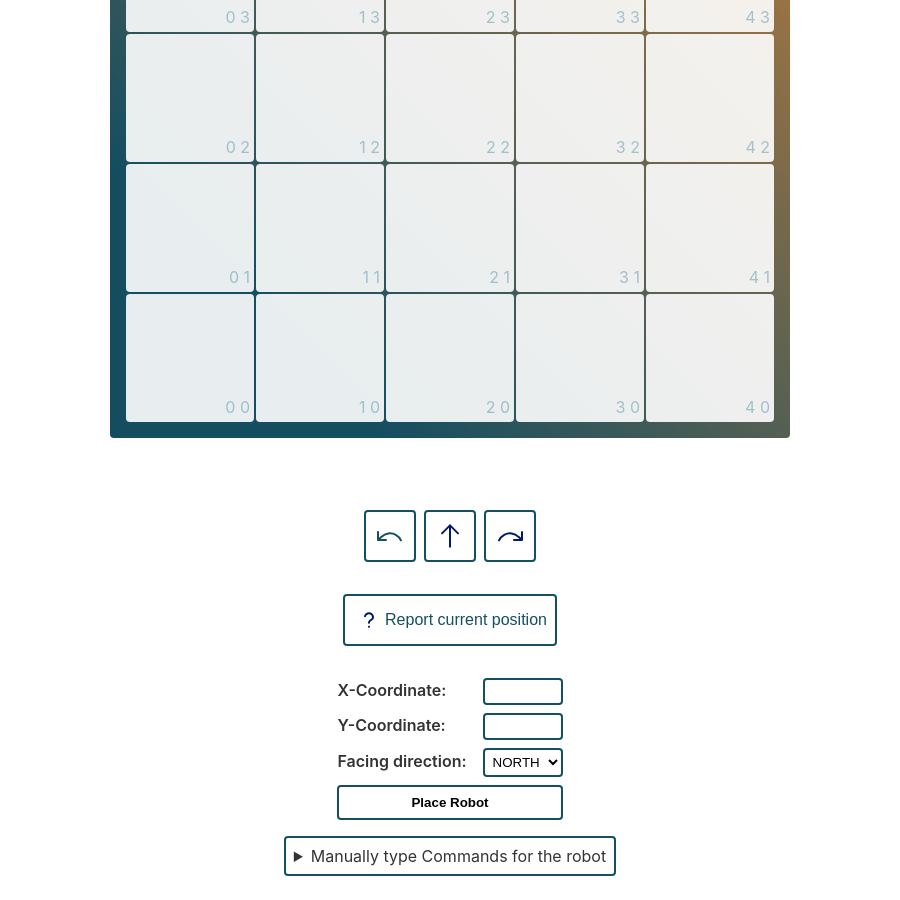
Test: Index page e2e tests › using controls › placed › rotates the robot in left direction
This screenshot has width=900, height=900.
(page scrolled)
Type "0" into the number field with test id "robotplaceform-x" at (523, 692), box x1=483 y1=678 x2=563 y2=705
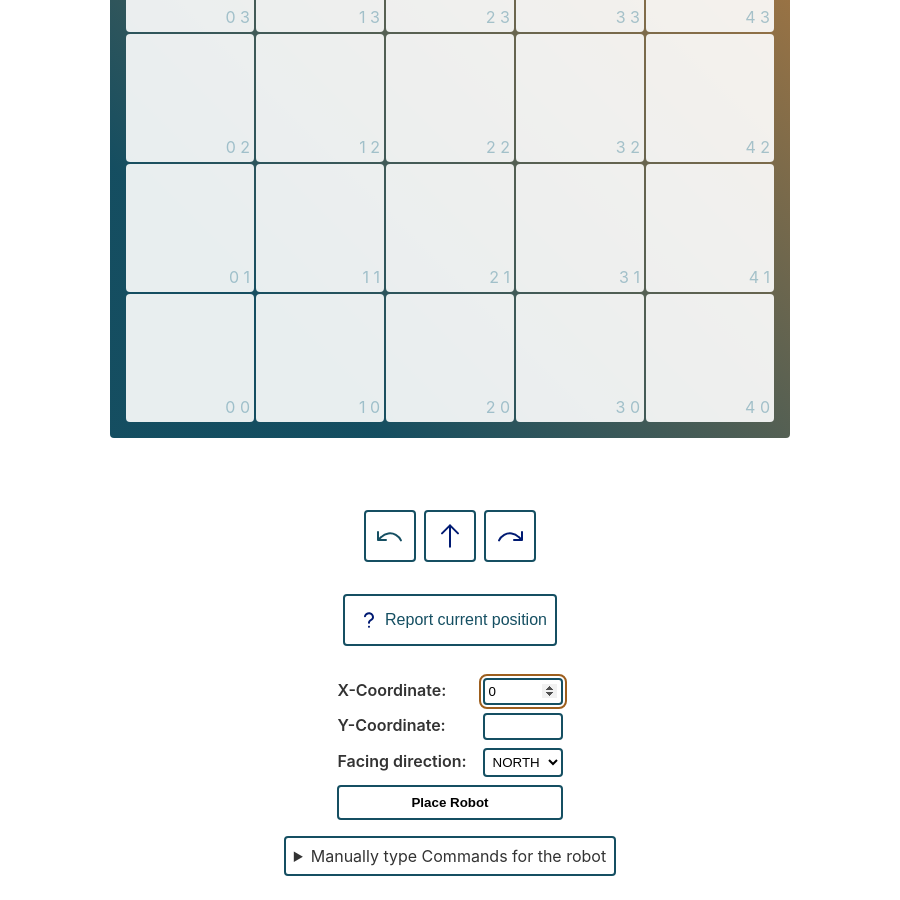
Type "1" into the number field with test id "robotplaceform-y" at (523, 727), box x1=483 y1=713 x2=563 y2=740
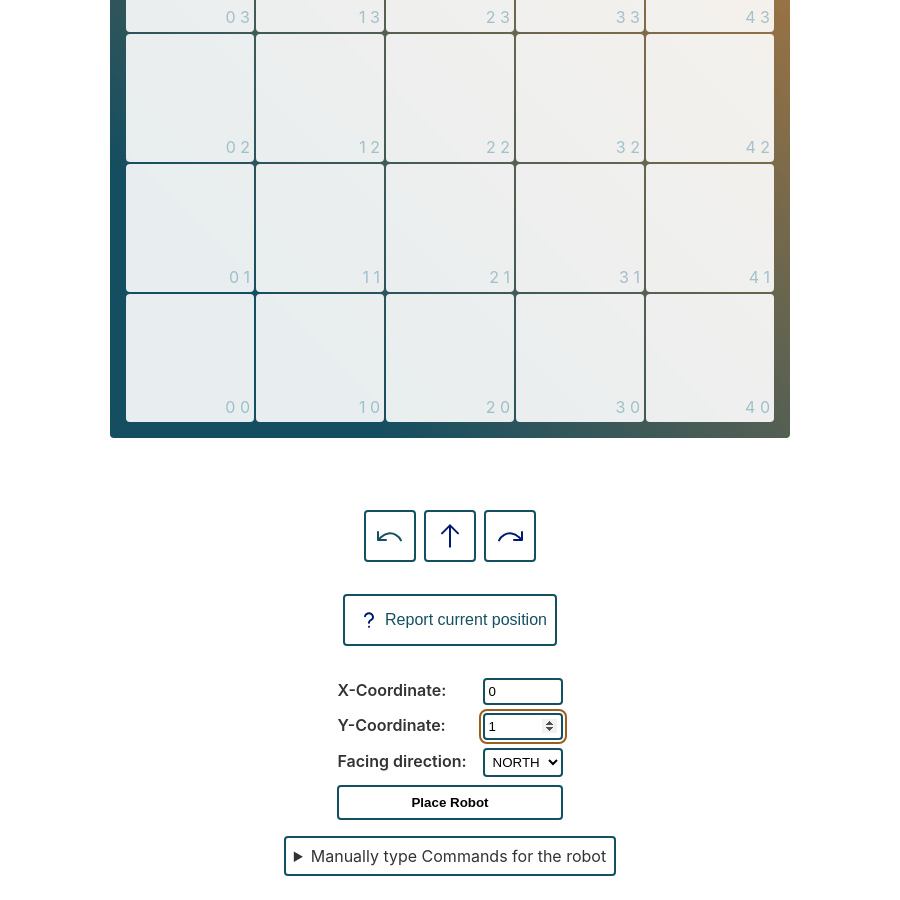
Select "NORTH" in the dropdown with test id "robotplaceform-facing" at (523, 763), box x1=483 y1=748 x2=563 y2=777
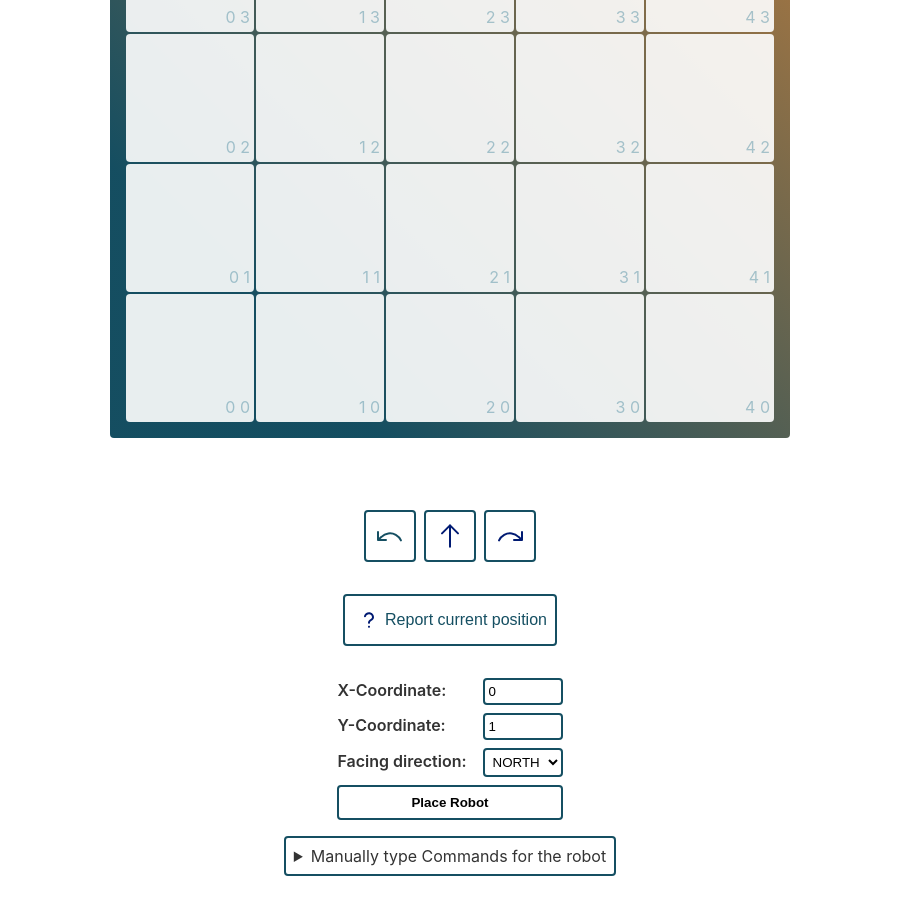
Click the button with test id "robotplaceform-submit" at (451, 803), box x1=338 y1=785 x2=563 y2=820
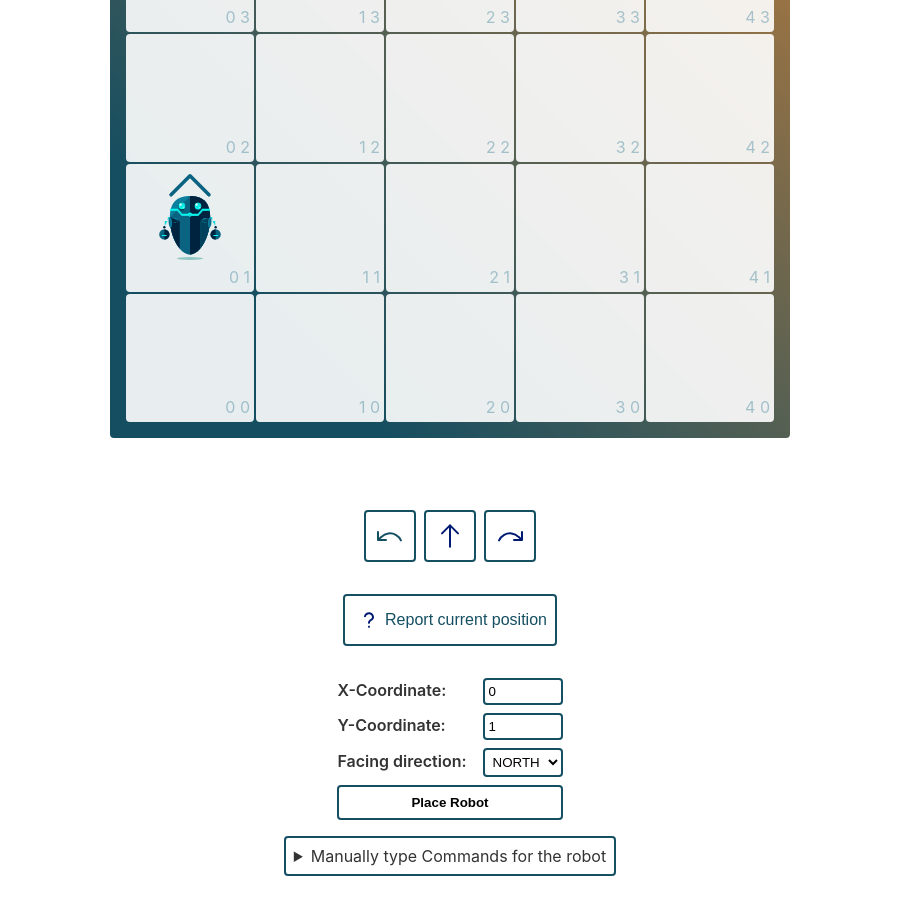
Now the icon with class "robot__direction-indicator--NORTH" is shown, box x1=126 y1=164 x2=254 y2=292
Click the button with test id "robotcontrol-button-turnleft" at (390, 536), box x1=364 y1=510 x2=416 y2=562
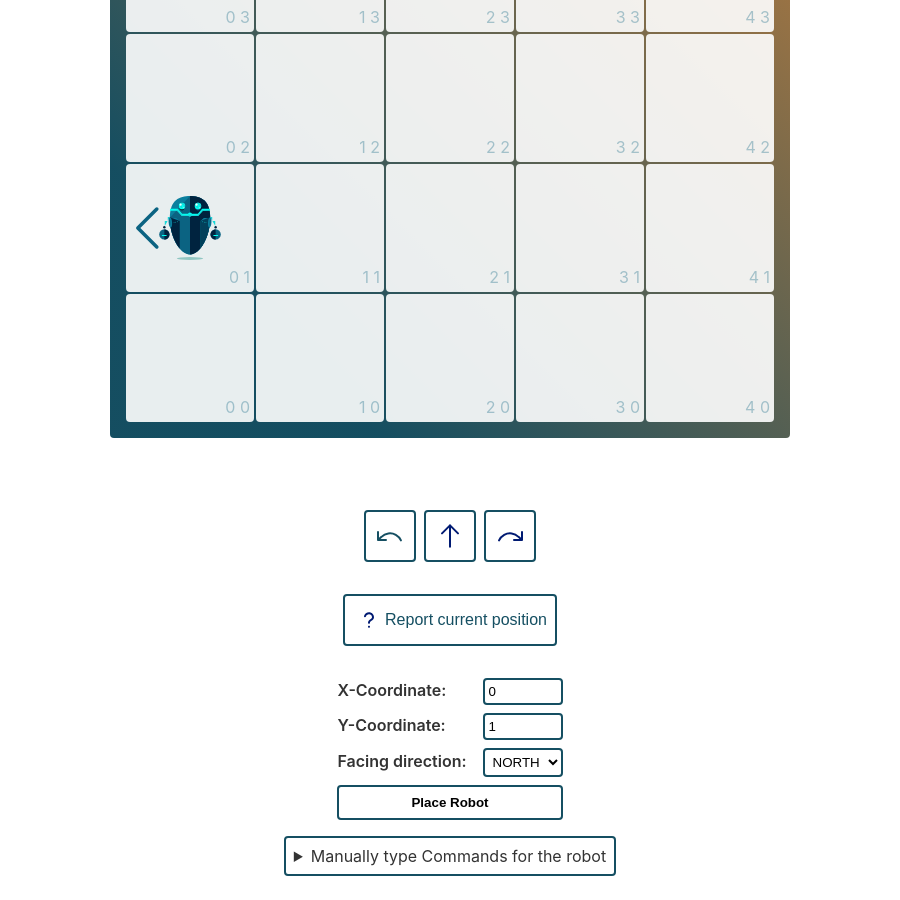
Now the icon with class "robot__direction-indicator--WEST" is shown, box x1=126 y1=164 x2=254 y2=292
